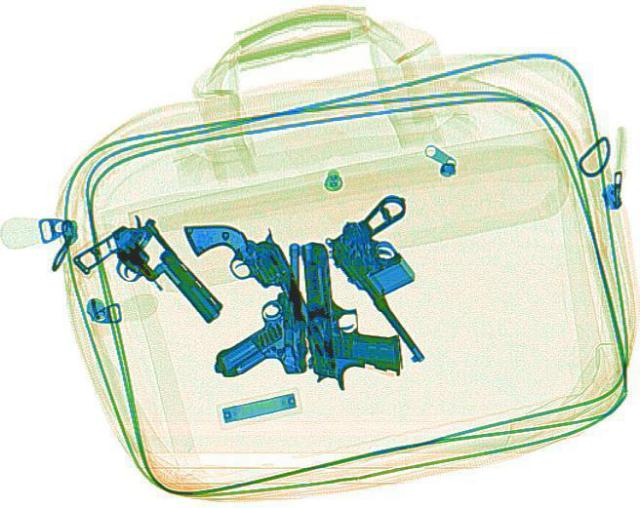Gun: (303, 188, 501, 364), (180, 203, 332, 369), (63, 211, 237, 347), (298, 237, 399, 387), (206, 241, 310, 375)
